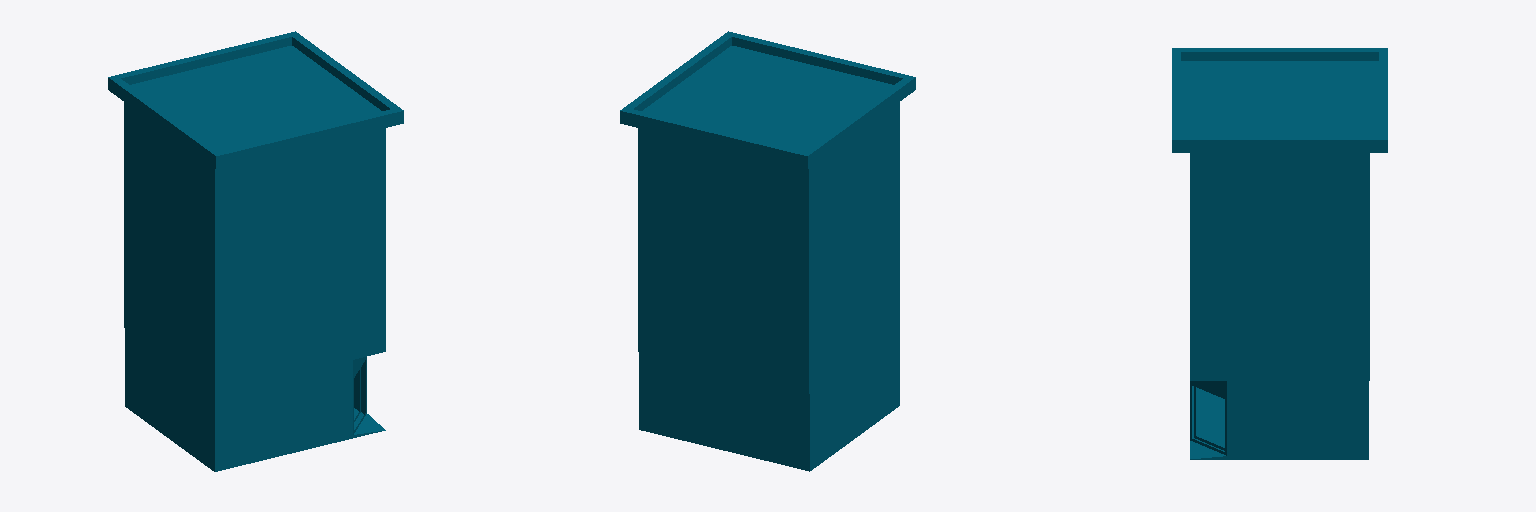
The model's file is building_001.obj.
3 views of the same model, side by side, from view 1: azimuth 30°, elevation 25°; view 2: azimuth 150°, elevation 25°; view 3: azimuth 270°, elevation 25° (orthographic).
Parts seen in each view (by area): view 1: Plane001; view 2: Plane001; view 3: Plane001.
Part boxes in pixels (left/top/right/bottom): Plane001: left=108, top=31, right=403, bottom=471; Plane001: left=620, top=31, right=915, bottom=471; Plane001: left=1172, top=48, right=1387, bottom=459.
Bounding box in the file's own units: 230 × 380 × 230.